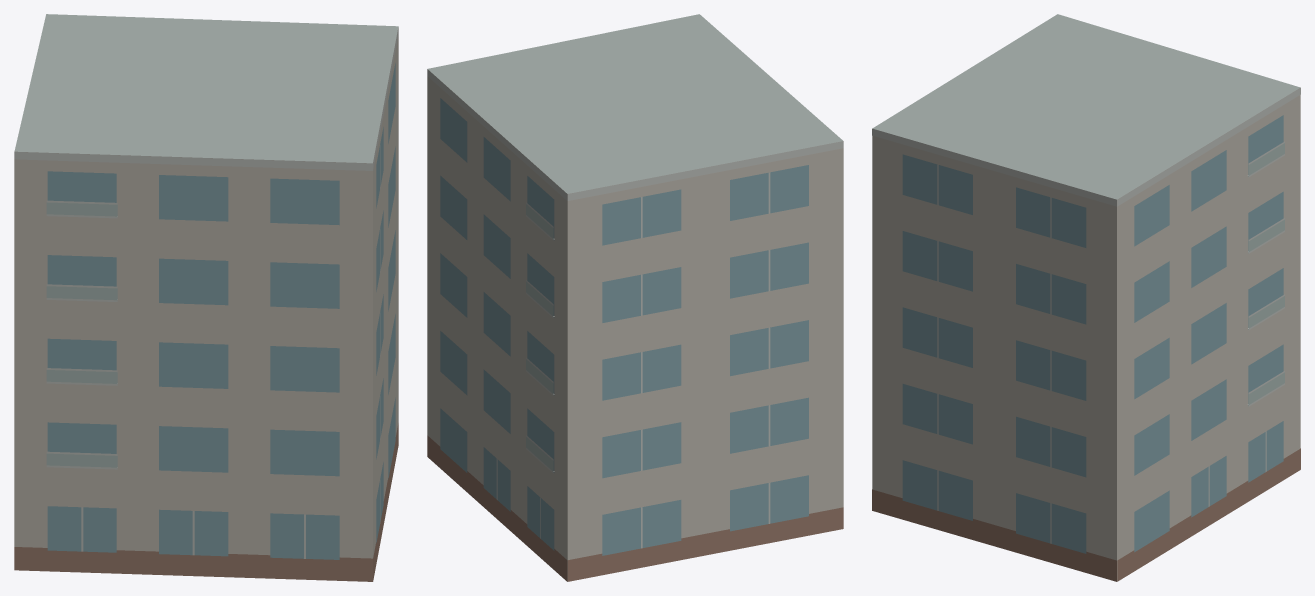
Rendered from survey-upis-32884219.glb.
The picture shows the model from 3 angles, left to right: view 1: azimuth 30°, elevation 25°; view 2: azimuth 150°, elevation 25°; view 3: azimuth 270°, elevation 25°; orthographic projection. The views are drawn at different scales.
Parts seen in each view (by area): view 1: survey-upis-32884219.tmp; view 2: survey-upis-32884219.tmp; view 3: survey-upis-32884219.tmp.
Part boxes in pixels (x1,y1,x2,y2): survey-upis-32884219.tmp: (14, 14, 398, 581); survey-upis-32884219.tmp: (427, 14, 843, 581); survey-upis-32884219.tmp: (872, 14, 1300, 581).
Bounding box in the file's own units: 13.76 × 13.2 × 13.42.
